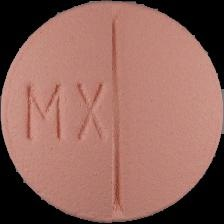53808-0226: (0, 0, 224, 224)
